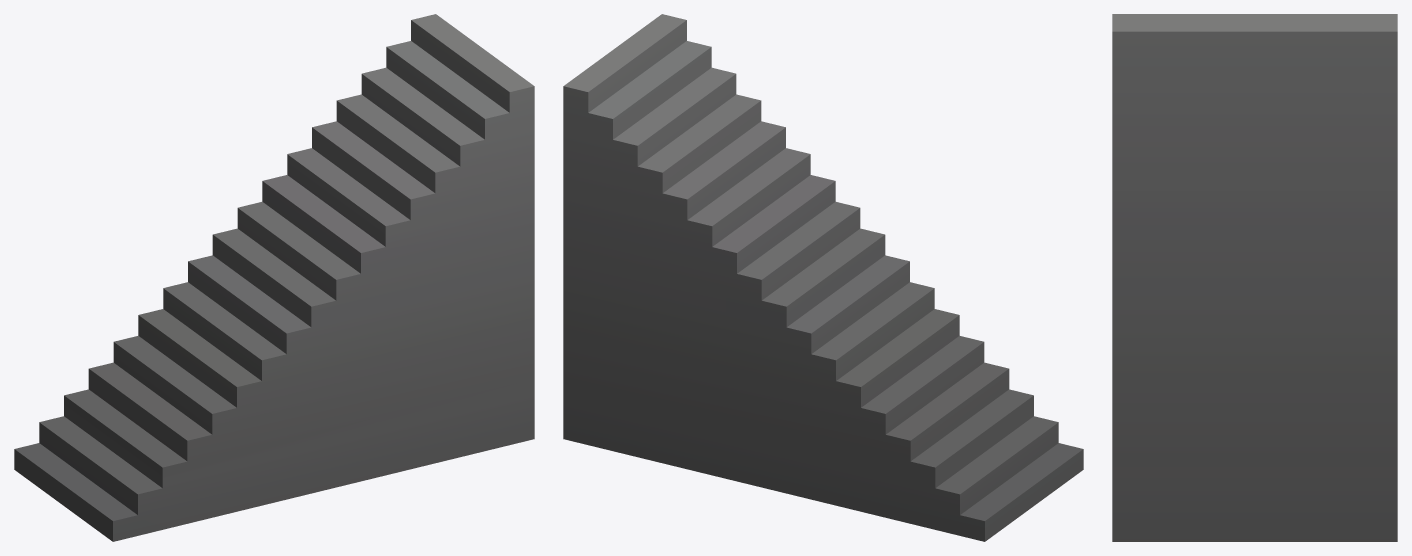
File: Stairs_C_1_1.obj
3 views of the same model, side by side, from view 1: azimuth 30°, elevation 25°; view 2: azimuth 150°, elevation 25°; view 3: azimuth 270°, elevation 25° (orthographic). The views are drawn at different scales.
Visible parts, largest first — view 1: Stairs_C_1_1; view 2: Stairs_C_1_1; view 3: Stairs_C_1_1.
Boxes of the visible parts, x1=… form: Stairs_C_1_1: x1=14, y1=14, x2=534, y2=541; Stairs_C_1_1: x1=563, y1=14, x2=1083, y2=541; Stairs_C_1_1: x1=1112, y1=14, x2=1397, y2=541.
Size of the model in its own units: 3.4 by 2.72 by 1.38.
